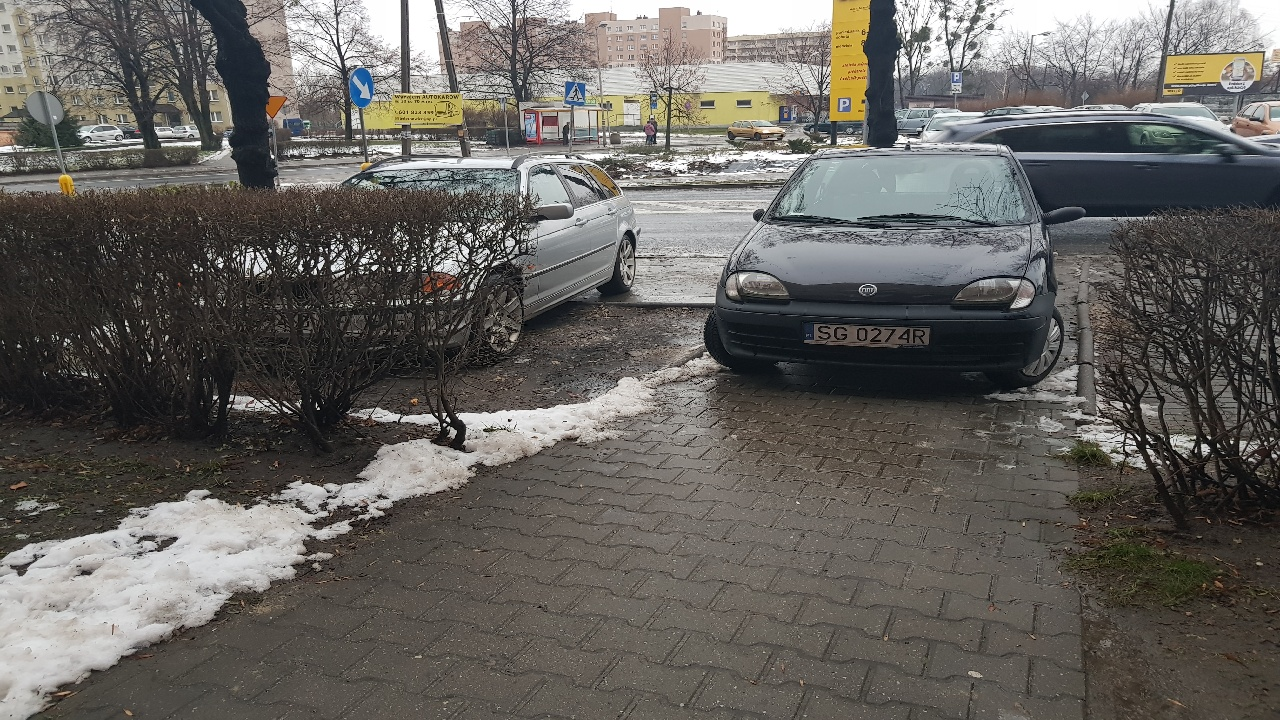A7: (261, 89, 291, 123)
C9: (341, 65, 378, 107)
D6: (562, 75, 588, 104)
